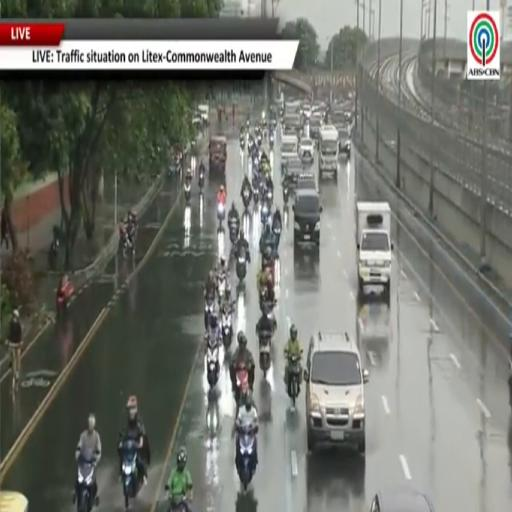car: (304, 332, 368, 455), (293, 188, 322, 248), (370, 485, 434, 511), (285, 156, 303, 187), (337, 125, 351, 159), (296, 171, 317, 190), (300, 137, 314, 163), (310, 111, 323, 139), (302, 104, 312, 120)
motorcycle: (122, 439, 142, 508), (76, 458, 98, 511), (237, 427, 255, 490), (207, 334, 220, 388), (236, 364, 250, 413), (288, 355, 301, 407), (56, 282, 74, 315), (259, 331, 271, 377), (260, 297, 276, 331), (119, 227, 134, 258), (262, 248, 275, 282), (221, 308, 232, 347), (204, 295, 214, 330), (168, 495, 189, 511), (236, 251, 247, 281), (218, 274, 227, 302), (229, 219, 239, 244), (272, 222, 281, 249), (261, 201, 270, 226), (217, 203, 225, 231), (242, 186, 251, 210), (184, 182, 191, 204), (265, 187, 273, 204), (252, 154, 259, 172), (239, 134, 246, 152), (199, 171, 204, 193), (268, 132, 274, 150), (283, 186, 288, 205), (254, 186, 259, 204), (256, 134, 262, 147)
truck: (356, 202, 392, 303), (319, 125, 338, 177), (281, 135, 298, 161)
